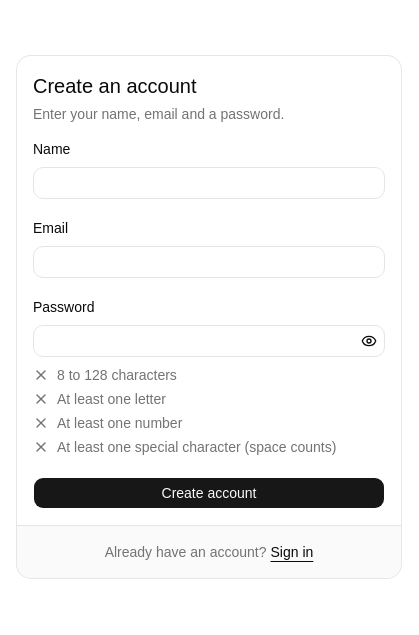
Test: /signup 400 → a form alert lists every message; values are kept
Type "Ann" into the field labelled "Name" at [209, 183], box [33, 167, 385, 199]
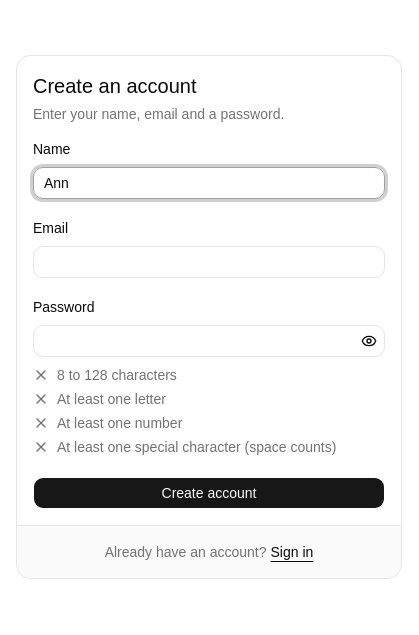
Type "ann@example.com" into the field labelled "Email" at [209, 262], box [33, 246, 385, 278]
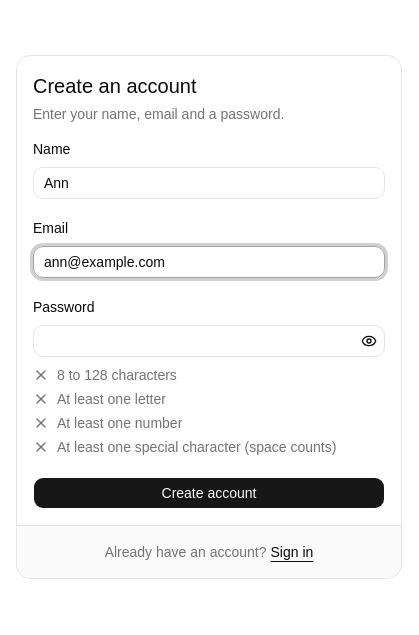
Type "abc12345!" into the password field labelled "Password" at [209, 341], box [33, 325, 385, 357]
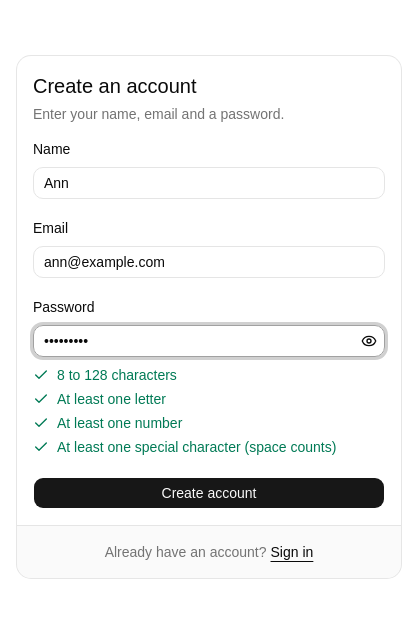
Click the button "Create account" at [209, 493], box [33, 477, 385, 509]
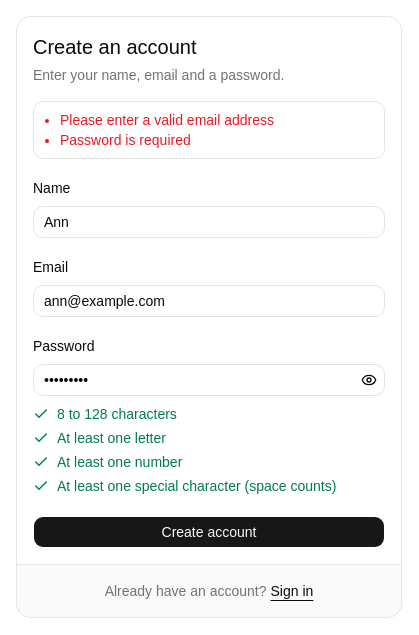
expect the list items read "Please enter a valid email address", "Password is required", in this order: met, box [60, 112, 274, 128]; [60, 132, 191, 148]
